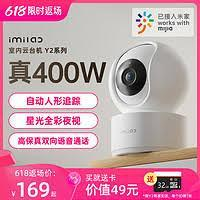maru: (107, 40, 190, 113)
